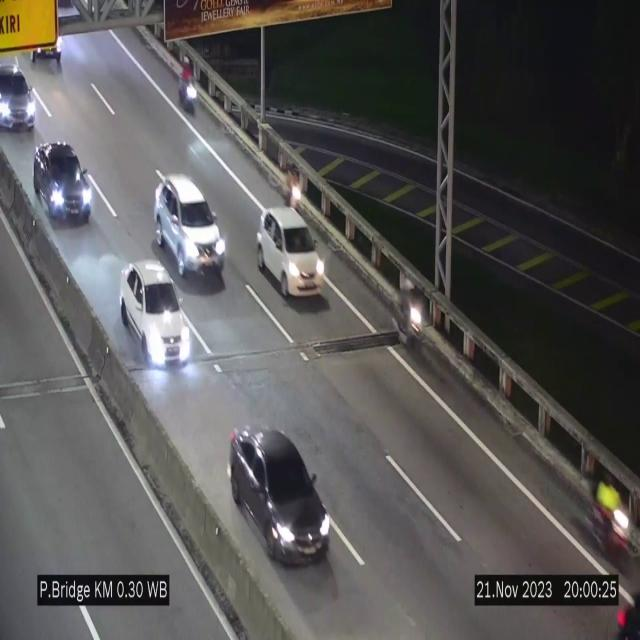Car: (230, 427, 330, 561), (154, 175, 226, 277), (120, 260, 185, 365), (257, 207, 319, 297), (34, 142, 92, 222), (0, 55, 45, 142)
Motorcycle: (593, 465, 633, 578), (396, 277, 424, 368), (177, 51, 199, 121), (284, 162, 304, 217)
